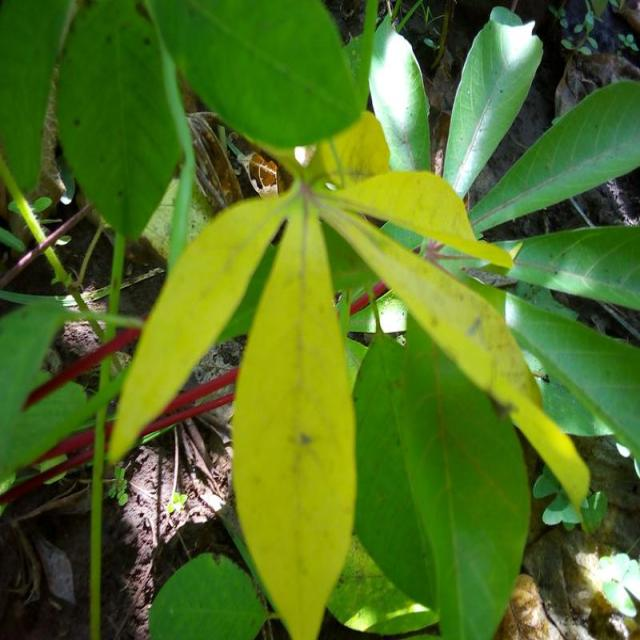cassava leaf: (105, 106, 568, 636), (230, 195, 358, 638), (55, 0, 186, 240)
